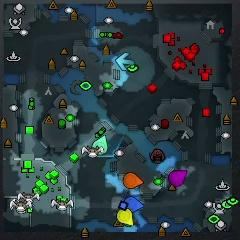p1: (123, 196, 143, 212)
p2: (92, 135, 108, 154)
p3: (170, 169, 187, 186)
p4: (115, 207, 135, 227)
p5: (123, 173, 143, 188)
x3: (116, 52, 134, 72)
